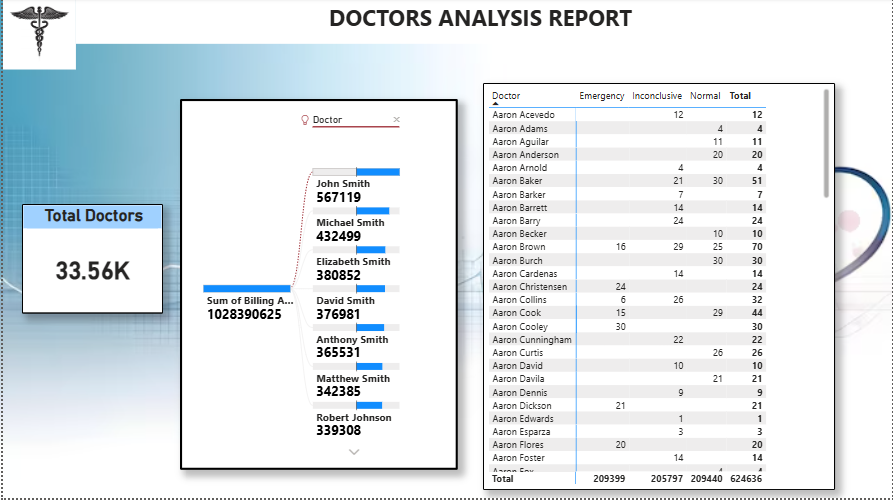

What the dashboard file says about the page in this screenshot:
{"tool":"powerbi","page":{"name":"Page 3","canvas":[1280,720],"ordinal":2},"visuals":[{"type":"textbox","box":[104.4,0,1175,66.2],"z":0},{"type":"image","box":[0,0,105.1,103.8],"z":1000},{"type":"card","title":"Total Doctors","fields":{"Values":["Count(healthcare_dataset.Doctor)"]},"box":[27.4,296.6,203,158.4],"z":2000},{"type":"decompositionTreeVisual","fields":{"Analyze":["Sum(healthcare_dataset.Billing Amount)"],"ExplainBy":["healthcare_dataset.Doctor"]},"box":[254.9,145.4,400.3,534.2],"z":3000},{"type":"pivotTable","fields":{"Rows":["healthcare_dataset.Doctor"],"Columns":["healthcare_dataset.result"],"Values":["Sum(healthcare_dataset.No of days)"]},"box":[691.2,122.4,506.9,586.1],"z":3001}]}

Visuals, with their boxes in screenshot pixels (x1, y1, x2, y2), scaled from the page's 1280x720 canvas onto the 893x501 screenshot:
textbox: box(73, 0, 892, 46)
image: box(0, 0, 73, 72)
"Total Doctors" card: box(19, 206, 161, 317)
decompositionTreeVisual - Sum(healthcare_dataset.Billing Amount) x healthcare_dataset.Doctor: box(178, 101, 457, 473)
pivotTable - healthcare_dataset.Doctor x healthcare_dataset.result: box(482, 85, 836, 493)
